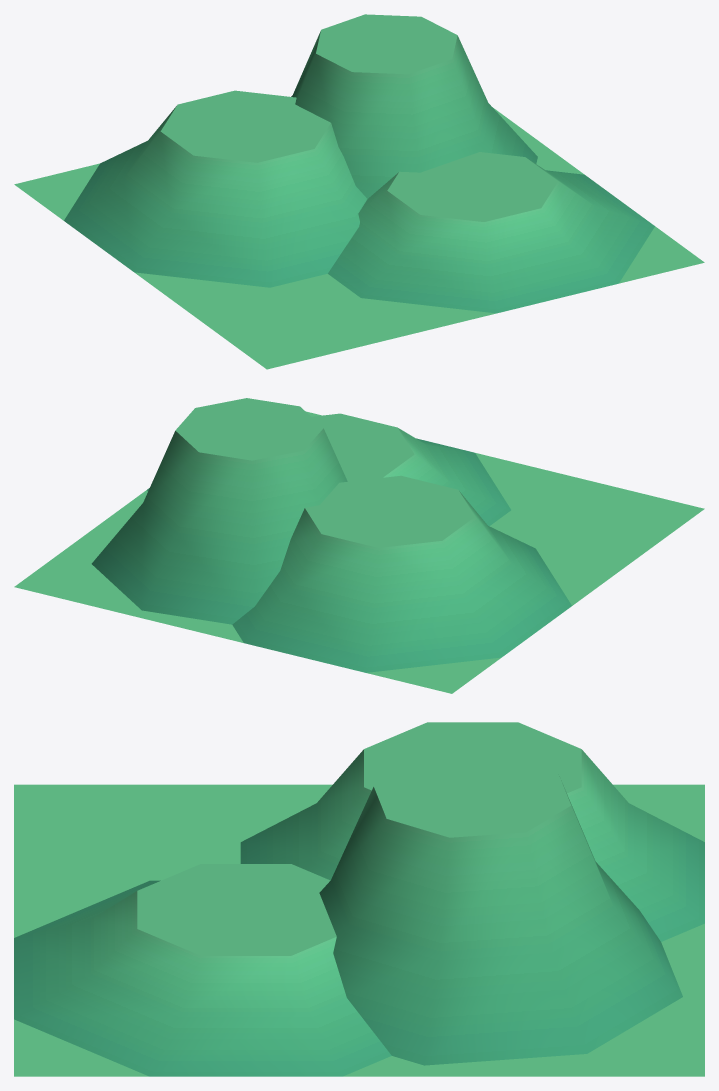
Rendered from ground-hills.glb.
3 views of the same model, one above another, from view 1: azimuth 30°, elevation 25°; view 2: azimuth 150°, elevation 25°; view 3: azimuth 270°, elevation 25° (orthographic). The views are drawn at different scales.
Visible parts, largest first — view 1: ground-hills; view 2: ground-hills; view 3: ground-hills.
Part boxes in pixels (box(x1,y1,x2,y2)): ground-hills: box(14, 14, 704, 369); ground-hills: box(14, 398, 704, 693); ground-hills: box(14, 722, 704, 1076).
Size of the model in its own units: 1 by 0.2882 by 1.
Materials: 1 (1 with a texture image).
